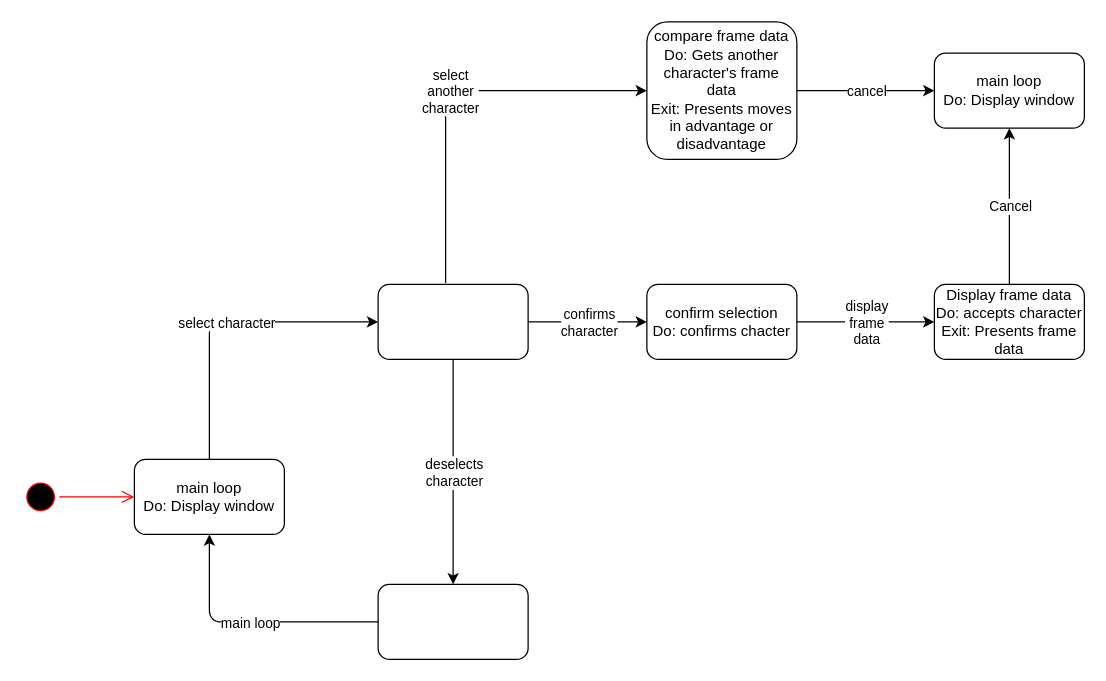
Image size: 1106x681. Some labels were removed from this diagram. Here are the shapes that lost their labels. From the top down, the box of each, then its label:
(377, 283, 528, 359): select character Do: Adds character as active
(377, 583, 528, 659): deselect character Do: remove selected character
